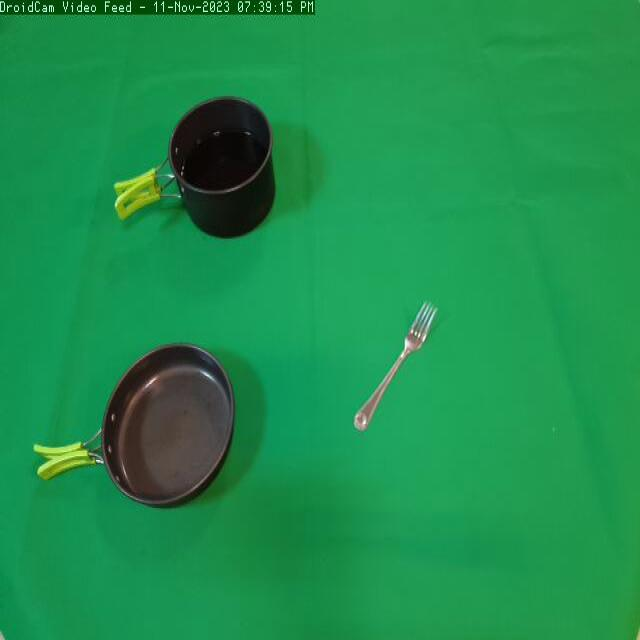fork: (342, 289, 440, 441)
pan: (20, 338, 244, 521)
pot: (115, 88, 288, 244)
